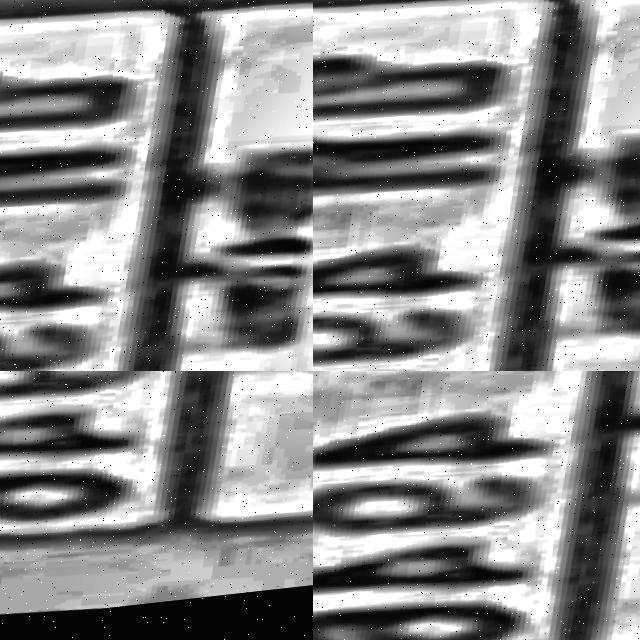license-plate: (313, 371, 640, 640), (0, 0, 186, 317), (313, 0, 501, 271)
